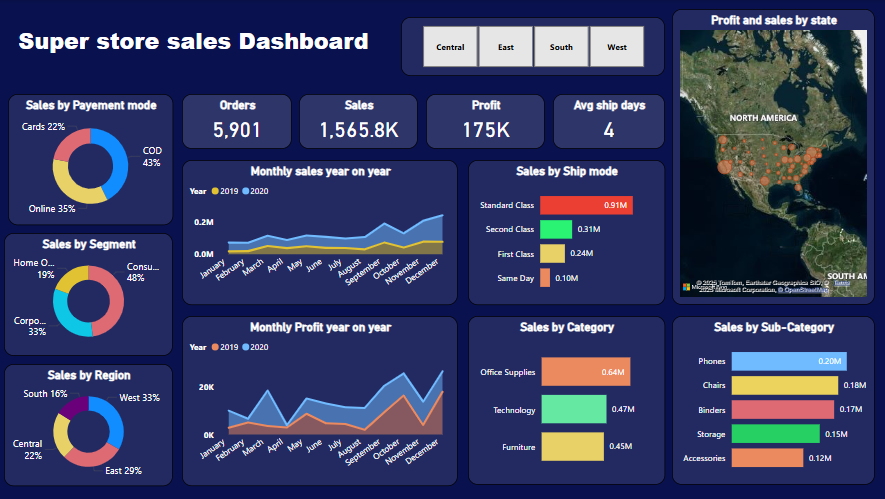

Layout of this report page (visuals, bound fields, positions):
{"tool":"powerbi","page":{"name":"sales_dashboard","canvas":[1280,720],"ordinal":0},"visuals":[{"type":"clusteredBarChart","title":" Sales by Category","fields":{"Category":["SuperStore_Sales_Dataset.Category"],"Y":["Sum(SuperStore_Sales_Dataset.Sales)"]},"box":[675.4,455,283.7,243.4],"z":0},{"type":"clusteredBarChart","title":" Sales by Sub-Category","fields":{"Category":["SuperStore_Sales_Dataset.Sub-Category"],"Y":["Sum(SuperStore_Sales_Dataset.Sales)"]},"box":[969.1,455,292.3,243.4],"z":1000},{"type":"clusteredBarChart","title":" Sales by Ship mode","fields":{"Category":["SuperStore_Sales_Dataset.Ship Mode"],"Y":["Sum(SuperStore_Sales_Dataset.Sales)"]},"box":[675.4,230.4,283.7,208.8],"z":2000},{"type":"stackedAreaChart","title":"Monthly sales year on year","fields":{"Category":["SuperStore_Sales_Dataset.Order Date.Variation.Date Hierarchy.Month","SuperStore_Sales_Dataset.Order Date.Variation.Date Hierarchy.Day"],"Y":["Sum(SuperStore_Sales_Dataset.Sales)"],"Series":["SuperStore_Sales_Dataset.Order Date.Variation.Date Hierarchy.Year"]},"box":[263.5,230.4,397.4,208.8],"z":3000},{"type":"stackedAreaChart","title":"Monthly Profit year on year","fields":{"Category":["SuperStore_Sales_Dataset.Order Date.Variation.Date Hierarchy.Month","SuperStore_Sales_Dataset.Order Date.Variation.Date Hierarchy.Day"],"Series":["SuperStore_Sales_Dataset.Order Date.Variation.Date Hierarchy.Year"],"Y":["Sum(SuperStore_Sales_Dataset.Profit)"]},"box":[263.5,455,397.4,244.8],"z":4000},{"type":"map","title":"Profit and sales by state","fields":{"Category":["SuperStore_Sales_Dataset.State"],"Size":["Sum(SuperStore_Sales_Dataset.Sales)"]},"box":[969.1,13,292.3,426.2],"z":5000},{"type":"donutChart","title":"Sales by Segment","fields":{"Category":["SuperStore_Sales_Dataset.Segment"],"Y":["Sum(SuperStore_Sales_Dataset.Sales)"]},"box":[7.2,335.5,243.4,177.1],"z":6000},{"type":"donutChart","title":"Sales by Payement mode","fields":{"Category":["SuperStore_Sales_Dataset.Payment Mode"],"Y":["Sum(SuperStore_Sales_Dataset.Sales)"]},"box":[13,135.4,237.6,188.6],"z":7000},{"type":"donutChart","title":"Sales by Region","fields":{"Category":["SuperStore_Sales_Dataset.Region"],"Y":["Sum(SuperStore_Sales_Dataset.Sales)"]},"box":[7.2,524.2,243.4,175.7],"z":8000},{"type":"card","title":"Sales","fields":{"Values":["Sum(SuperStore_Sales_Dataset.Sales)"]},"box":[432,135.4,171.4,79.2],"z":9000},{"type":"card","title":"Orders","fields":{"Values":["CountNonNull(SuperStore_Sales_Dataset.Quantity)"]},"box":[263.5,135.4,158.4,79.2],"z":10000},{"type":"card","title":"Profit","fields":{"Values":["Sum(SuperStore_Sales_Dataset.Profit)"]},"box":[614.9,135.4,171.4,79.2],"z":11000},{"type":"card","title":"Avg ship days","fields":{"Values":["Avg(SuperStore_Sales_Dataset.AvgDelivery)"]},"box":[797.8,135.4,161.3,79.2],"z":12000},{"type":"textbox","box":[13,13,534.2,108],"z":13000},{"type":"slicer","fields":{"Values":["SuperStore_Sales_Dataset.Region"]},"box":[578.9,24.5,380.2,85],"z":14000}]}

Visuals, with their boxes in screenshot pixels (x1, y1, x2, y2), scaled from the page's 1280x720 canvas onto the 885x499 screenshot:
" Sales by Category" clusteredBarChart: [467, 315, 663, 484]
" Sales by Sub-Category" clusteredBarChart: [670, 315, 872, 484]
" Sales by Ship mode" clusteredBarChart: [467, 160, 663, 304]
"Monthly sales year on year" stackedAreaChart: [182, 160, 457, 304]
"Monthly Profit year on year" stackedAreaChart: [182, 315, 457, 485]
"Profit and sales by state" map: [670, 9, 872, 304]
"Sales by Segment" donutChart: [5, 233, 173, 355]
"Sales by Payement mode" donutChart: [9, 94, 173, 225]
"Sales by Region" donutChart: [5, 363, 173, 485]
"Sales" card: [299, 94, 417, 149]
"Orders" card: [182, 94, 292, 149]
"Profit" card: [425, 94, 544, 149]
"Avg ship days" card: [552, 94, 663, 149]
textbox: [9, 9, 378, 84]
slicer - SuperStore_Sales_Dataset.Region: [400, 17, 663, 76]
